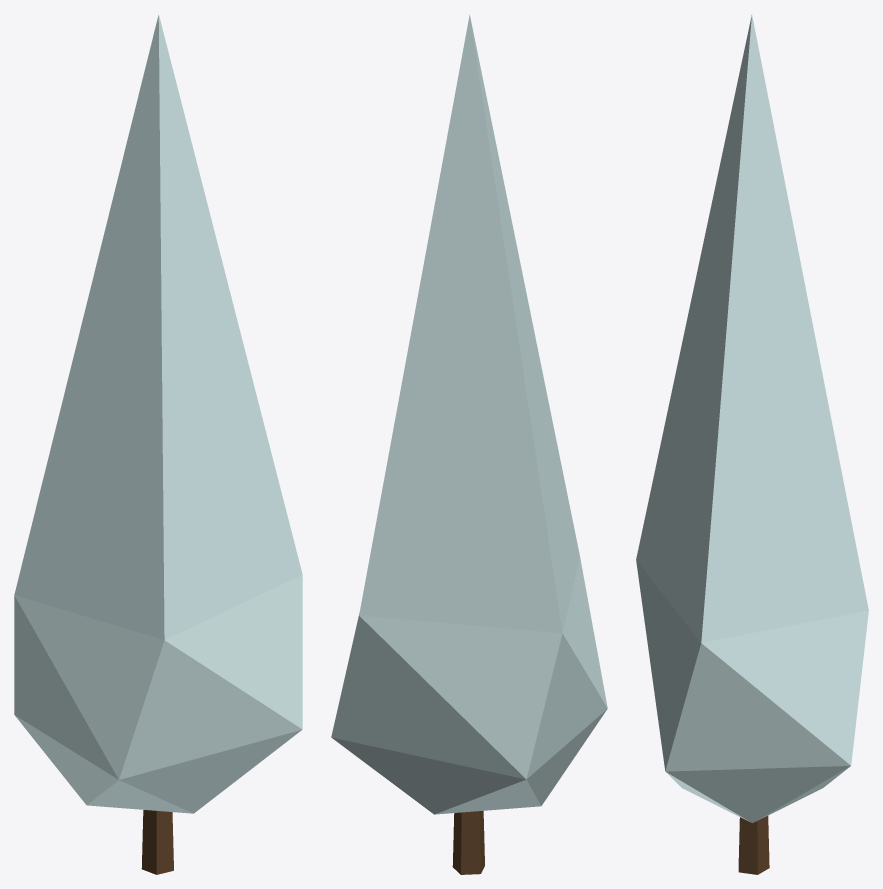
File: tree-poplar_white.glb
The picture shows the model from 3 angles, left to right: view 1: azimuth 30°, elevation 25°; view 2: azimuth 150°, elevation 25°; view 3: azimuth 270°, elevation 25°; orthographic projection.
Visible parts, largest first — view 1: tree-poplar_winter; view 2: tree-poplar_winter; view 3: tree-poplar_winter.
Part boxes in pixels (x1=…): tree-poplar_winter: x1=14, y1=14, x2=302, y2=874; tree-poplar_winter: x1=331, y1=14, x2=607, y2=874; tree-poplar_winter: x1=636, y1=15, x2=868, y2=874.
Size of the model in its own units: 2.21 by 7.62 by 1.88.
1 material, 1 textured.
